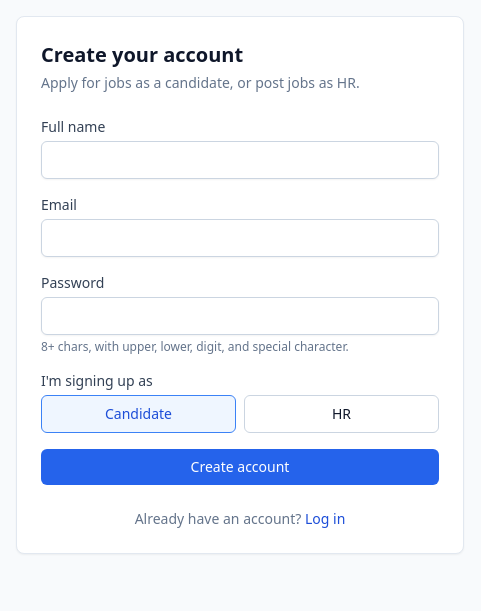
Test: RegisterPage › shows inline validation errors when the form is submitted empty
Click the button "Create account": click(240, 467) [41,449,439,485]
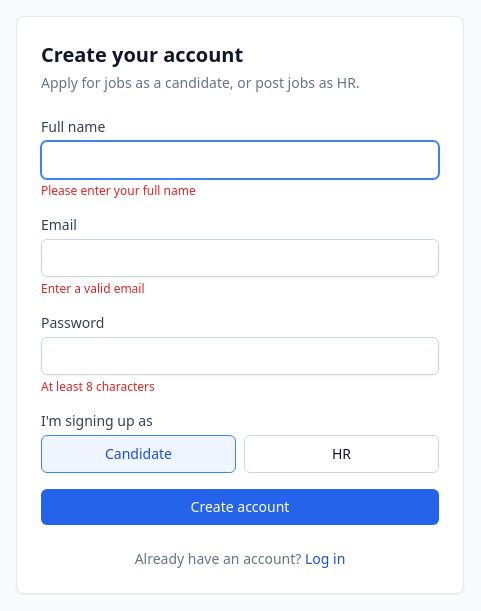
Now the text "Please enter your full name" is shown, box [41,182,196,199]
Now the text "Enter a valid email" is shown, box [41,280,145,297]
